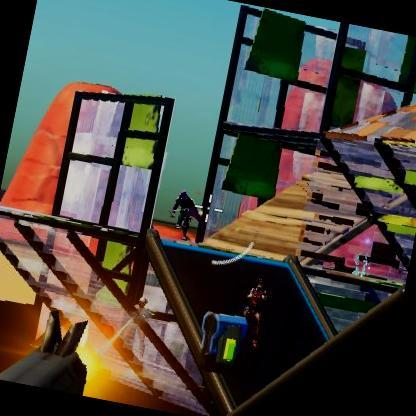person: (242, 272, 274, 344), (165, 188, 196, 239)
